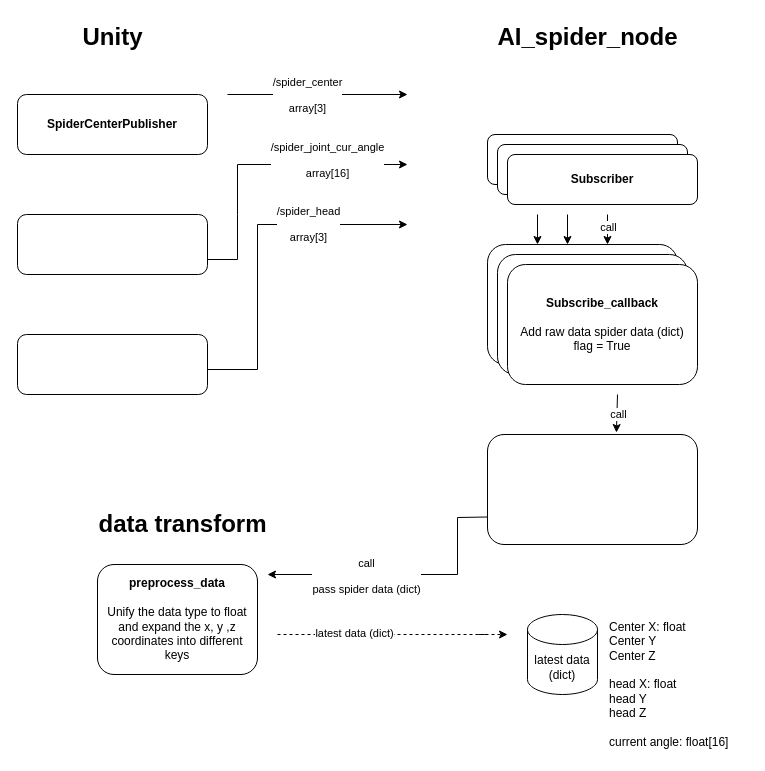
Some shapes in this 765 by 771 pixel diagram are drawn without their labels. The centre of each missing label's shape, as x and y in pixels:
"check_and_get_latest_data Check all data receive Set flag = False" goes at [592,489].
"SpiderHeadPublisher" goes at [112,364].
"SpiderJoint_cur_anglePublisher" goes at [112,244].
